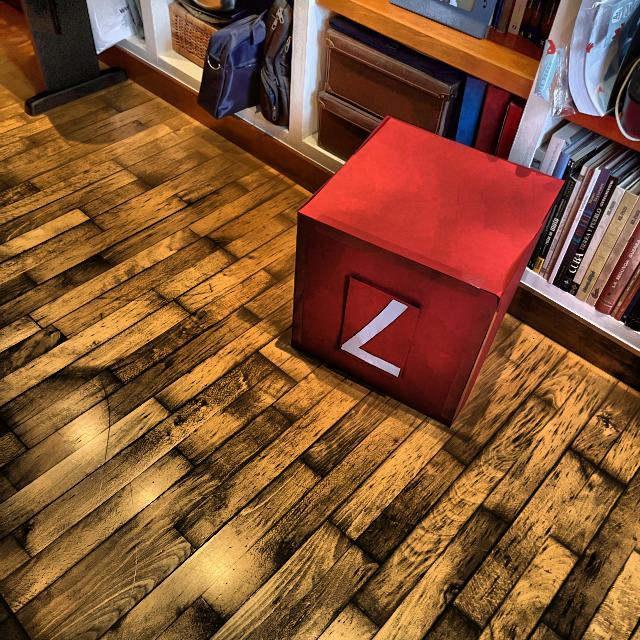red box: (293, 113, 562, 430)
seven: (343, 295, 407, 377)
